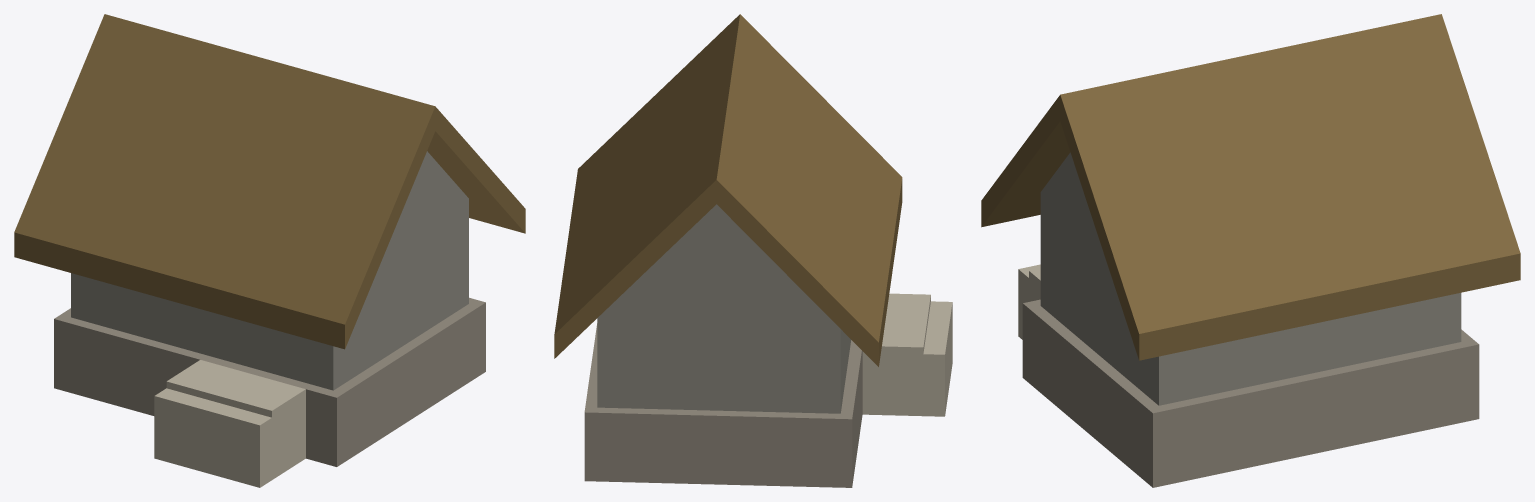
The model's file is SM_FishersCove_House6.fbx.
3 renders of one model, left to right at view 1: azimuth 30°, elevation 25°; view 2: azimuth 150°, elevation 25°; view 3: azimuth 270°, elevation 25°, orthographic. The views are drawn at different scales.
Parts seen in each view (by area): view 1: SM_FishersCove_House6; view 2: SM_FishersCove_House6; view 3: SM_FishersCove_House6.
Boxes of the visible parts, left/top/right/bottom form: SM_FishersCove_House6: left=14, top=14, right=525, bottom=487; SM_FishersCove_House6: left=554, top=14, right=952, bottom=487; SM_FishersCove_House6: left=981, top=14, right=1520, bottom=487.
Bounding box in the file's own units: 6.89 × 5.16 × 7.33.
